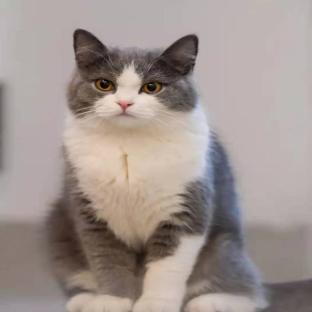Animal: (47, 29, 267, 312)
